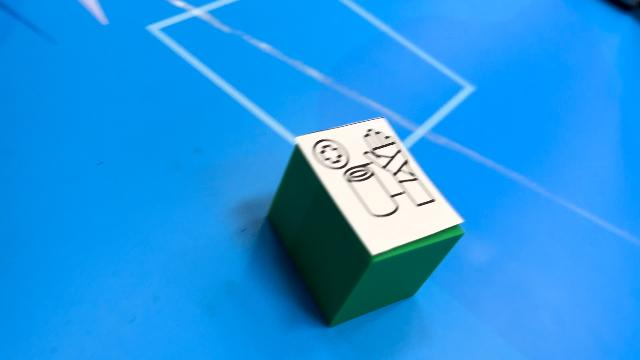bandage: (266, 116, 466, 328)
